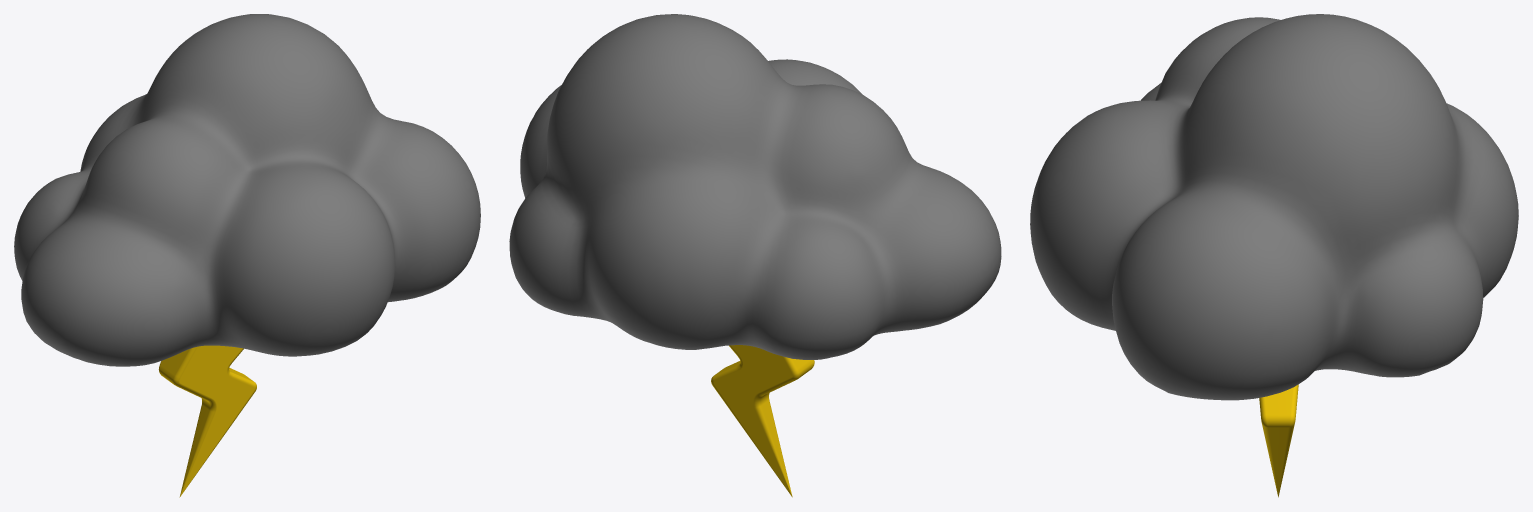
File: lightning.gltf
3 views of the same model, side by side, from view 1: azimuth 30°, elevation 25°; view 2: azimuth 150°, elevation 25°; view 3: azimuth 270°, elevation 25° (orthographic). The views are drawn at different scales.
Parts seen in each view (by area): view 1: lightning.1; view 2: lightning.1; view 3: lightning.1.
Boxes of the visible parts, bbox=[...] form: lightning.1: bbox=[14, 14, 480, 497]; lightning.1: bbox=[509, 14, 1001, 497]; lightning.1: bbox=[1030, 14, 1518, 497].
Bounding box in the file's own units: 16.47 × 15.91 × 13.37.
